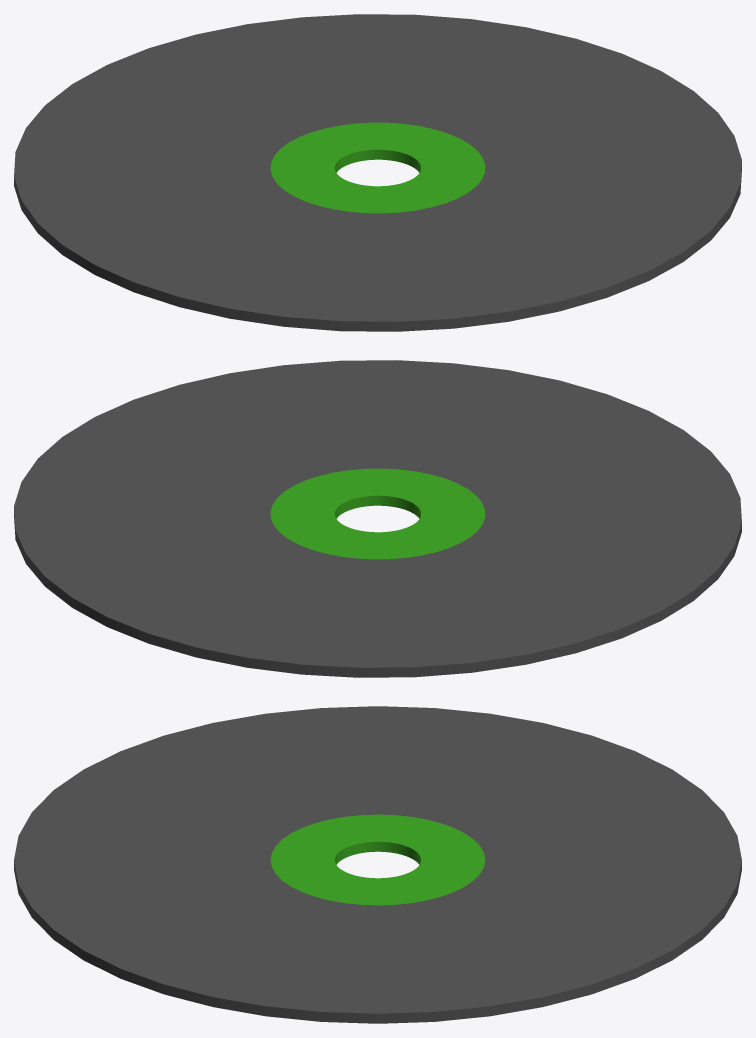
The picture shows the model from 3 angles, top to bottom: view 1: azimuth 30°, elevation 25°; view 2: azimuth 150°, elevation 25°; view 3: azimuth 270°, elevation 25°; orthographic projection.
Visible parts, largest first — view 1: pTorus1; view 2: pTorus1; view 3: pTorus1.
Boxes of the visible parts, bbox=[...] form: pTorus1: bbox=[14, 14, 741, 331]; pTorus1: bbox=[14, 360, 741, 677]; pTorus1: bbox=[14, 706, 741, 1023].
Size of the model in its own units: 11.41 by 0.1728 by 11.41.
